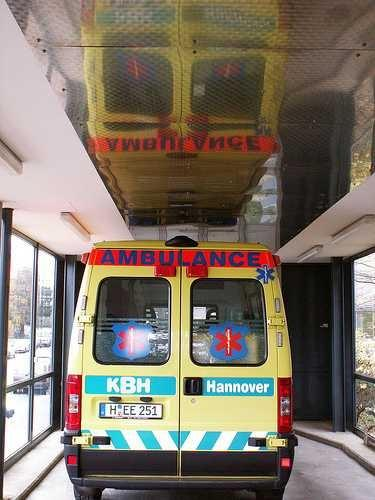car: (60, 235, 297, 499)
